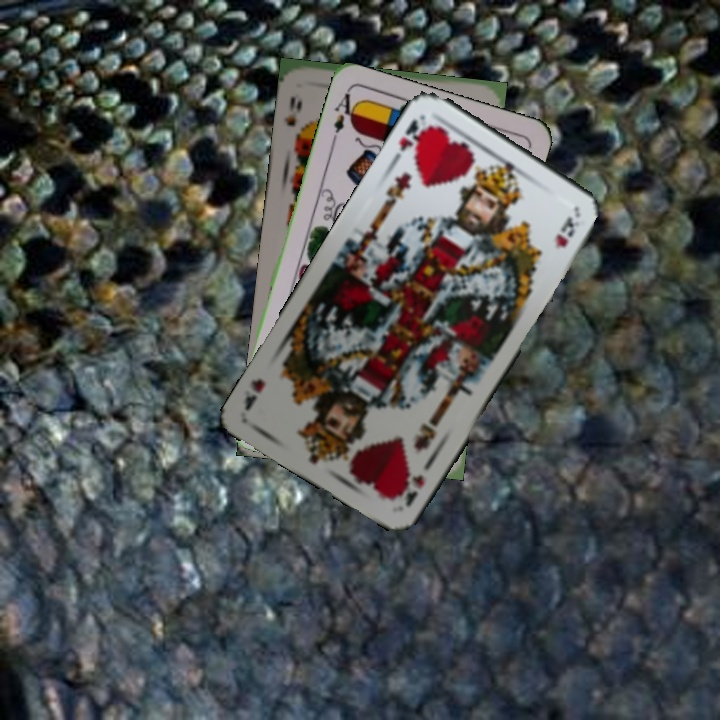EA: (328, 87, 361, 145)
HK: (388, 111, 433, 165), (395, 470, 427, 509)
S9: (280, 92, 307, 143)
